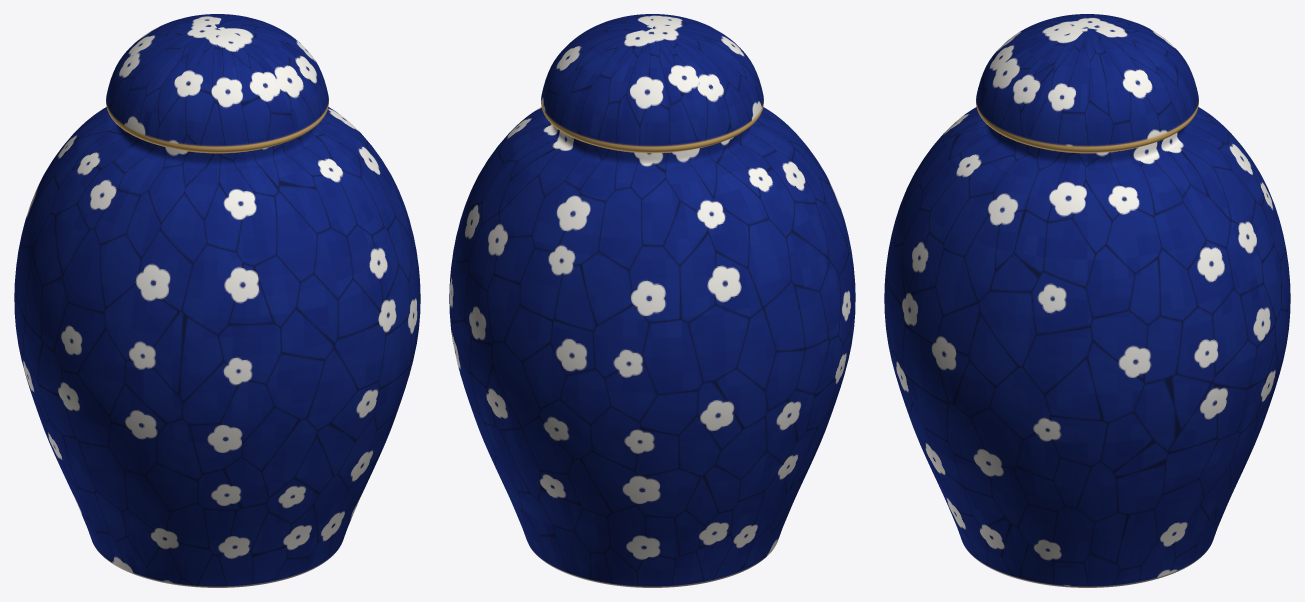
Rendered from ginger-jar.glb.
3 renders of one model, left to right at view 1: azimuth 30°, elevation 25°; view 2: azimuth 150°, elevation 25°; view 3: azimuth 270°, elevation 25°, orthographic.
Visible parts, largest first — view 1: jar-body, jar-lid; view 2: jar-body, jar-lid; view 3: jar-body, jar-lid.
Part boxes in pixels (x1,y1,x2,y2): jar-body: (14,107,420,587); jar-lid: (106,14,328,152); jar-body: (449,107,855,587); jar-lid: (541,14,763,152); jar-body: (884,107,1290,587); jar-lid: (976,14,1198,152).
Size of the model in its own units: 0.1779 by 0.2453 by 0.1779.
2 materials, 2 textured.
